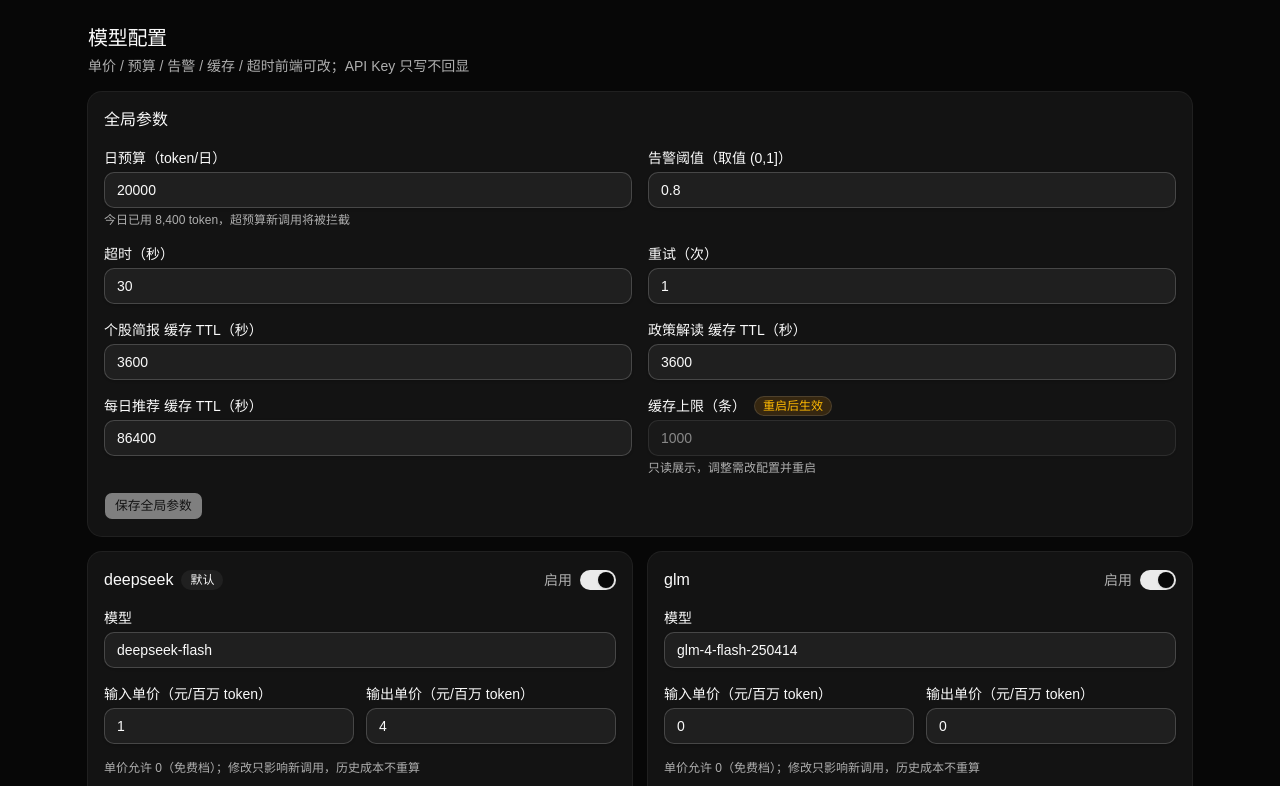
LlmConfig 模型配置页（T39） › 保存全局参数：仅提交变更字段 + expectedUpdatedAt，反馈条枚举即时生效范围
The width and height of the screenshot is (1280, 786).
Expected: the element with test id "llm-config-global-card" is shown, [88,92,1192,536]
Replace the text in the field with test id "llm-config-budget-input" with "30000" at (368, 190), box [104,172,632,208]
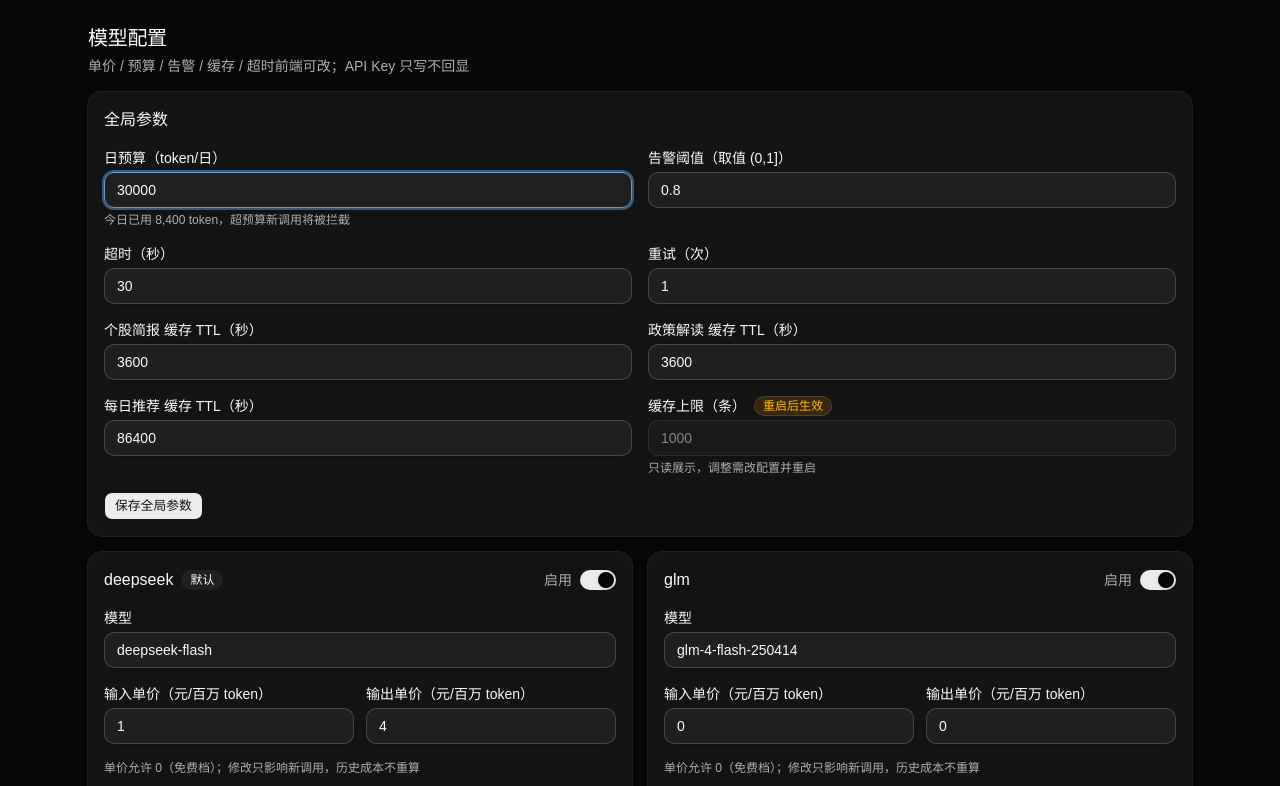
Click the button with test id "llm-config-global-save".
click(153, 506)  # box [104,492,203,520]
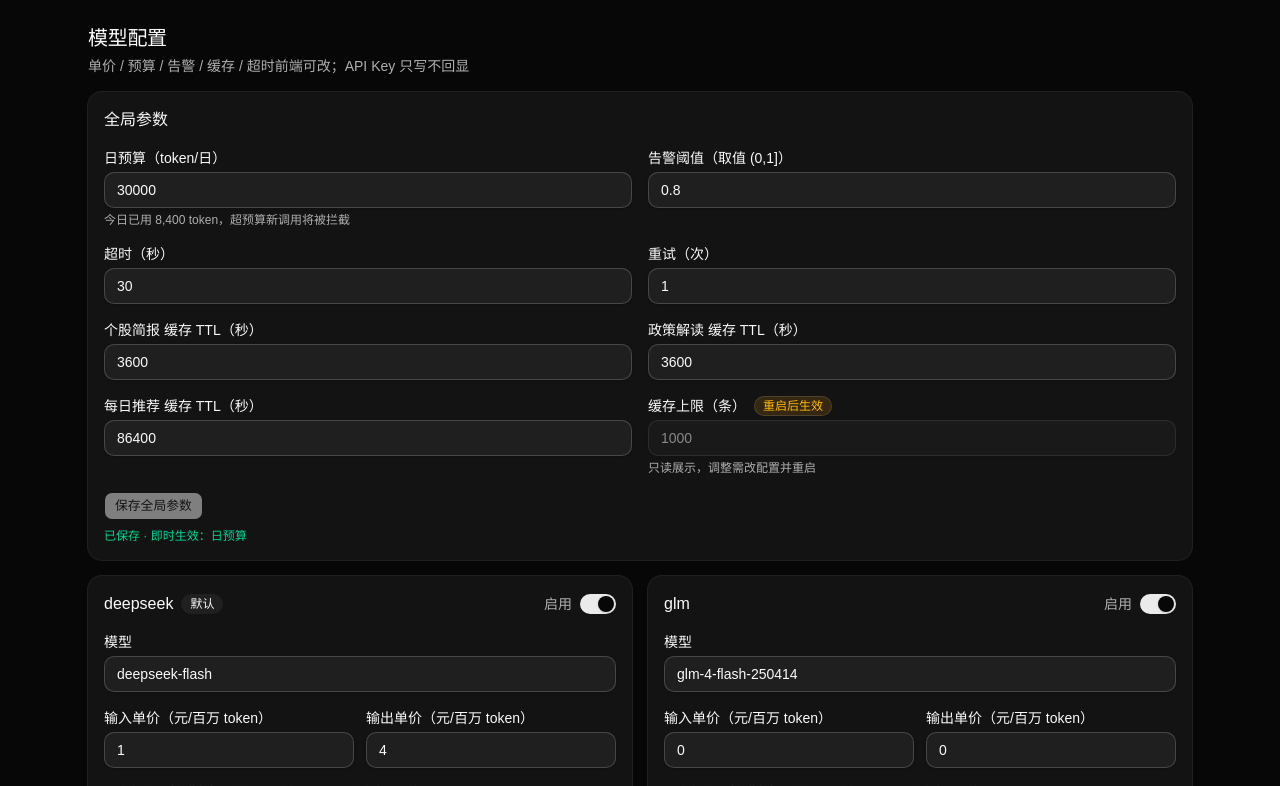
Result: the element with test id "llm-config-global-feedback" shows "已保存" at [104,529,140,543]
Result: the element with test id "llm-config-global-feedback" shows "即时生效：日预算" at [140,529,247,543]
